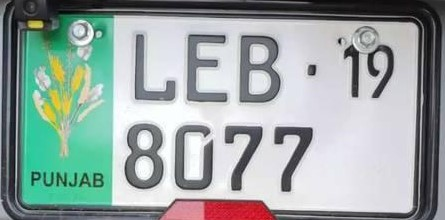0: (172, 122, 217, 191)
1: (343, 41, 364, 99)
7: (269, 123, 316, 194), (222, 122, 263, 192)
8: (122, 121, 169, 189)
9: (365, 42, 397, 100)
B: (235, 31, 285, 105)
E: (183, 30, 230, 104)
L: (129, 29, 178, 103)
